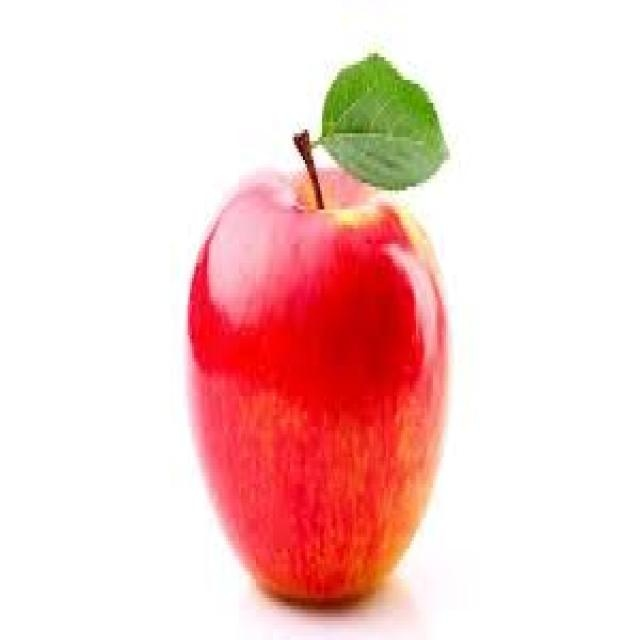agrume: (158, 119, 525, 640)
